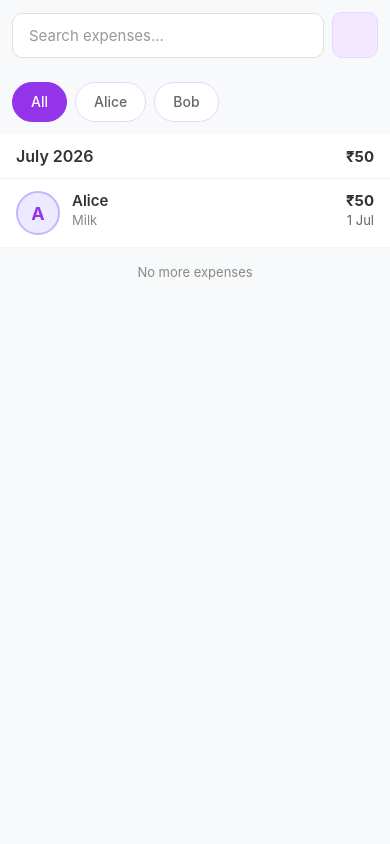
Test: ExpensesScreen expense detail dialog › shows an error message in the dialog when loading details fails
Step 1. Click the text "Milk" → (85, 220), box [72,212,97,228]
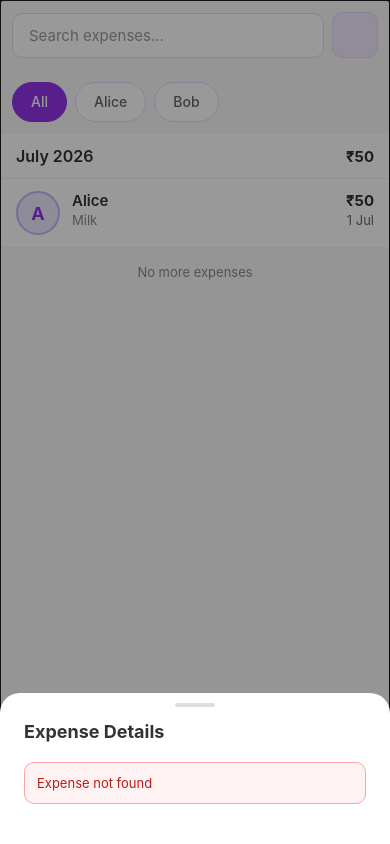
Now the text "Expense not found" is shown, box [37,775,152,791]
